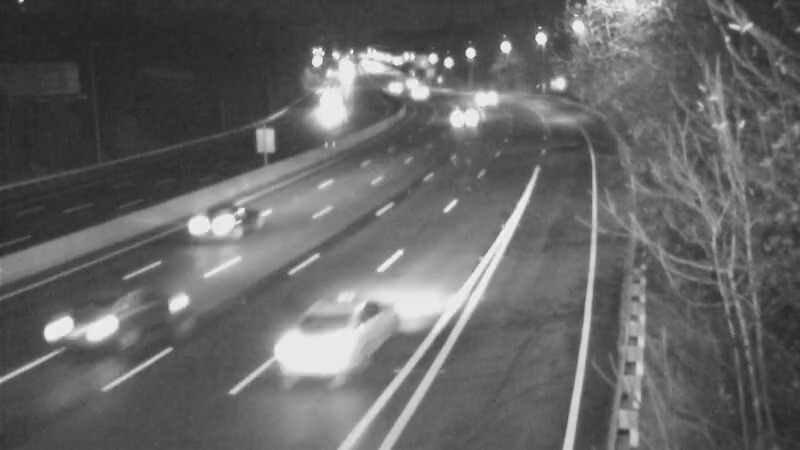vehicle: (30, 269, 140, 379), (264, 294, 374, 404), (172, 181, 252, 261), (391, 67, 441, 117), (454, 71, 504, 121), (443, 94, 493, 144), (295, 86, 345, 136)
